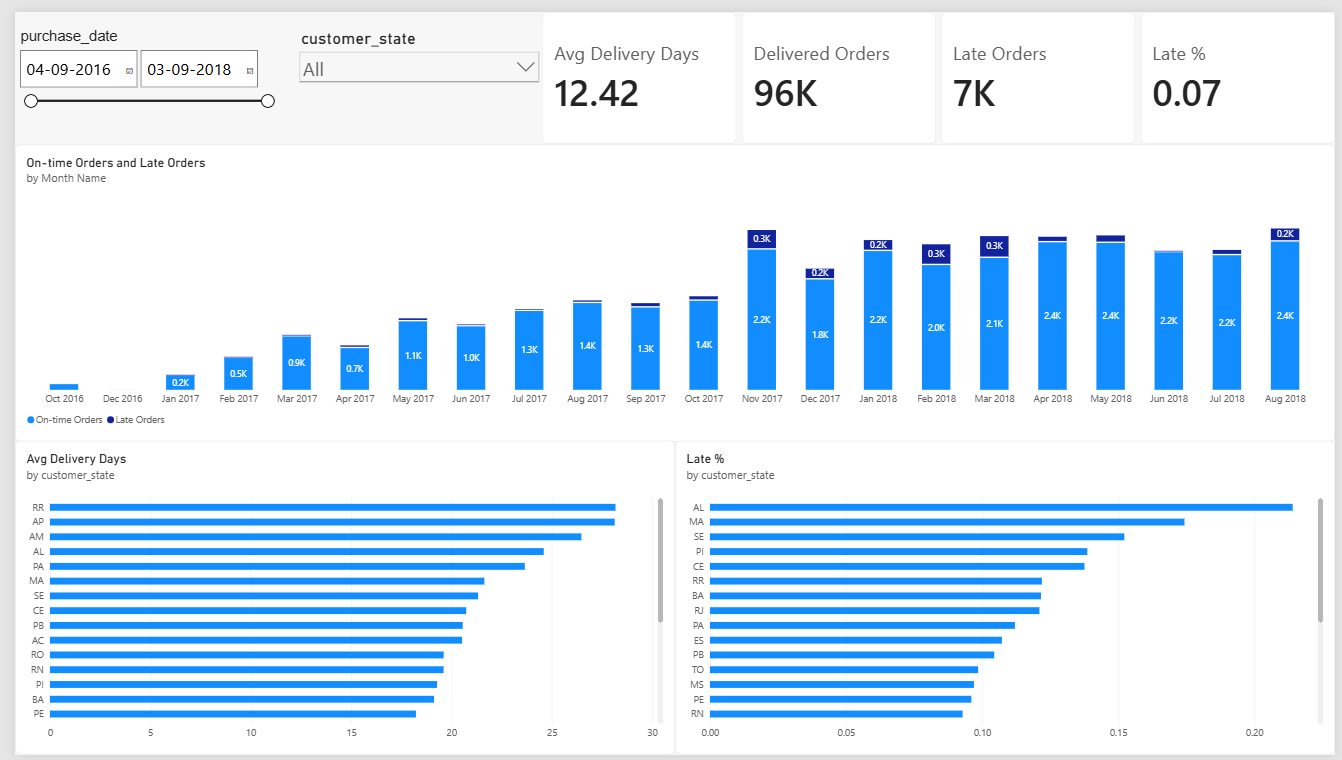

The page's visual inventory and layout, read from the dashboard file:
{"tool":"powerbi","page":{"name":"Delivery & Logistic","canvas":[1920,1080],"ordinal":3},"visuals":[{"type":"columnChart","fields":{"Category":["DimDate.Month Name"],"Y":["DimDate.On-time Orders","DimDate.Late Orders"]},"box":[0,192,1920,432],"z":0},{"type":"barChart","fields":{"Category":["public bi_fact_sales.customer_state"],"Y":["DimDate.Avg Delivery Days"]},"box":[0,624,960,456],"z":1000},{"type":"slicer","fields":{"Values":["public bi_fact_sales.purchase_date"]},"box":[0,24,384,168],"z":2000},{"type":"slicer","fields":{"Values":["public bi_fact_sales.customer_state"]},"box":[408,24,360,168],"z":3000},{"type":"cardVisual","fields":{"Data":["DimDate.Avg Delivery Days","DimDate.Delivered Orders","DimDate.Late Orders","DimDate.Late %"]},"box":[768,0,1152,192],"z":4000},{"type":"barChart","fields":{"Category":["public bi_fact_sales.customer_state"],"Y":["DimDate.Late %"]},"box":[960,624,960,456],"z":5000}]}

Visuals, with their boxes in screenshot pixels (x1, y1, x2, y2), scaled from the page's 1920x1080 canvas onto the 1342x760 screenshot:
columnChart - DimDate.Month Name x DimDate.On-time Orders: {"left": 0, "top": 135, "right": 1341, "bottom": 439}
barChart - public bi_fact_sales.customer_state x DimDate.Avg Delivery Days: {"left": 0, "top": 439, "right": 671, "bottom": 759}
slicer - public bi_fact_sales.purchase_date: {"left": 0, "top": 17, "right": 268, "bottom": 135}
slicer - public bi_fact_sales.customer_state: {"left": 285, "top": 17, "right": 537, "bottom": 135}
cardVisual - DimDate.Avg Delivery Days x DimDate.Delivered Orders: {"left": 537, "top": 0, "right": 1341, "bottom": 135}
barChart - public bi_fact_sales.customer_state x DimDate.Late %: {"left": 671, "top": 439, "right": 1341, "bottom": 759}
